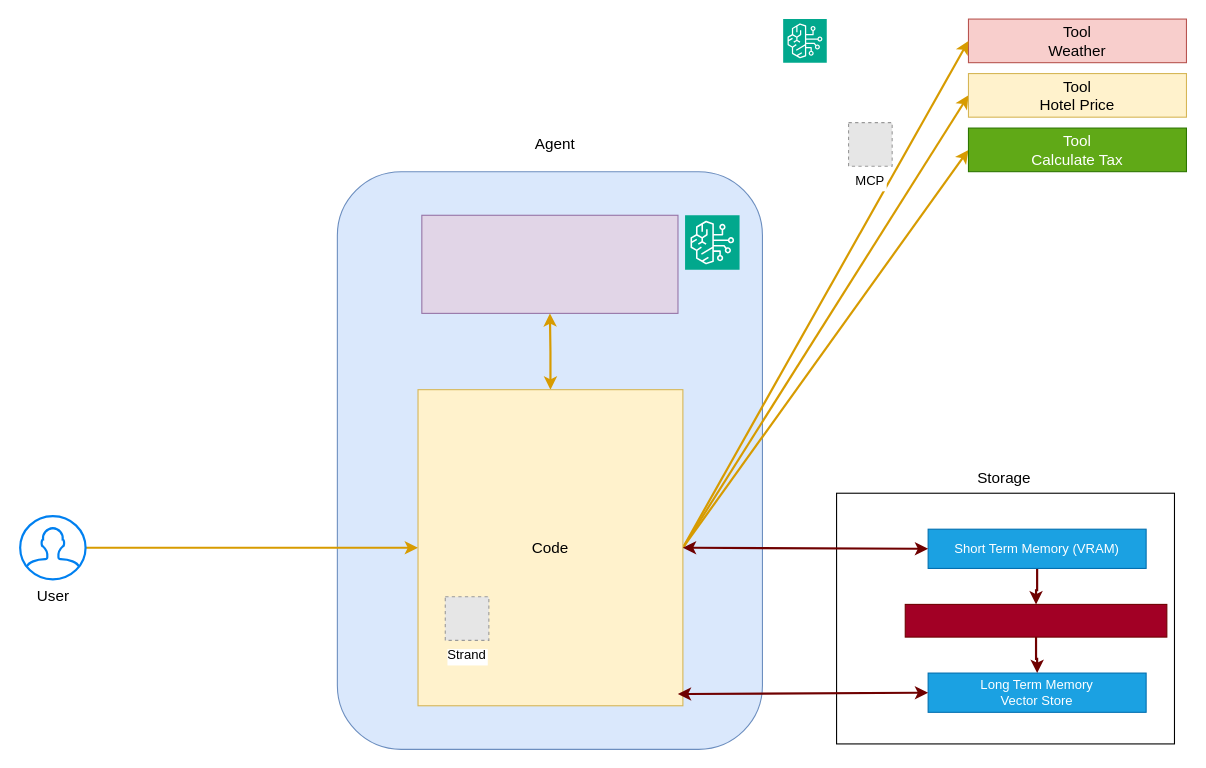
The diagram is 1206 pixels wide and 768 high, and some of its shapes have lost their labels. Grey dashed boxes stand in for pictures. The centre of each missing label's shape, as x and y in pixels:
Amazon Bedrock: the point at 712,242
Amazon Bedrock AgentCore Gateway: the point at 804,40
LLM: the point at 549,263
Memory Extraction Module: the point at 1035,620
